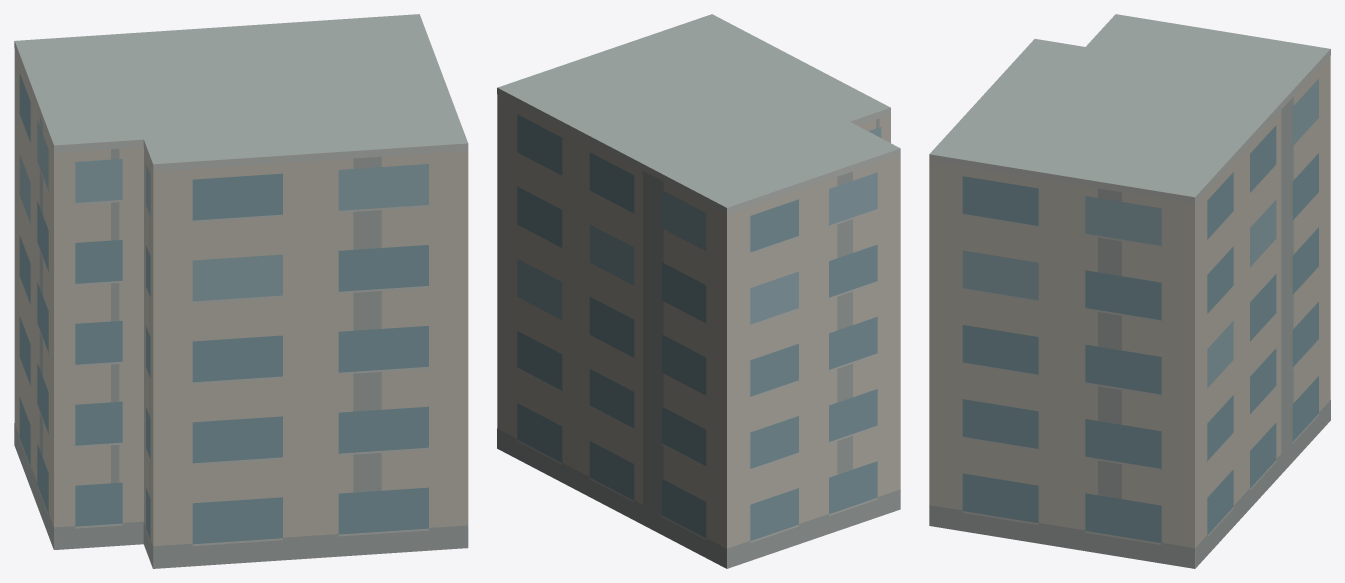
Rendered from survey-upis-32913827.glb.
The picture shows the model from 3 angles, left to right: view 1: azimuth 30°, elevation 25°; view 2: azimuth 150°, elevation 25°; view 3: azimuth 270°, elevation 25°; orthographic projection. The views are drawn at different scales.
Visible parts, largest first — view 1: survey-upis-32913827.tmp; view 2: survey-upis-32913827.tmp; view 3: survey-upis-32913827.tmp.
Boxes of the visible parts, x1,y1,x2,y2 form: survey-upis-32913827.tmp: (14,14,468,568); survey-upis-32913827.tmp: (497,14,900,568); survey-upis-32913827.tmp: (929,14,1330,568).
Size of the model in its own units: 13.97 by 13.2 by 12.93.
